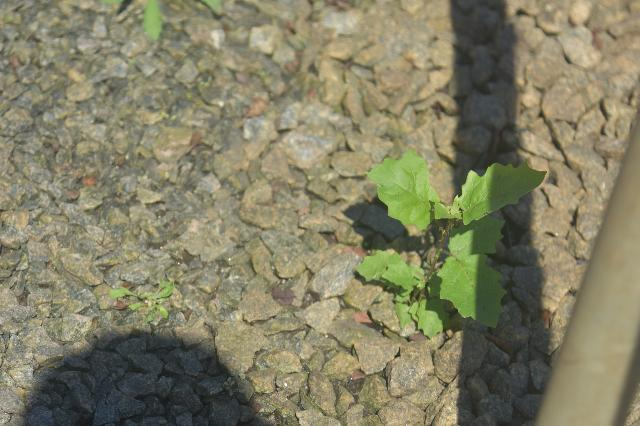MalezaMontesDelPlata: (355, 143, 552, 354), (103, 272, 180, 326)
